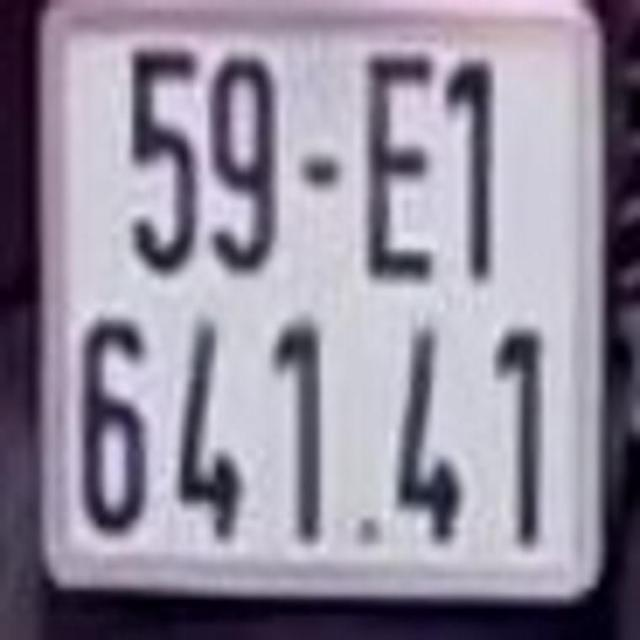1: (482, 316, 562, 548), (264, 308, 334, 544), (440, 44, 502, 282)
4: (387, 314, 464, 551), (170, 314, 244, 544)
5: (125, 41, 202, 273)
6: (75, 306, 152, 537)
9: (206, 44, 282, 274)
E: (360, 46, 438, 284)
